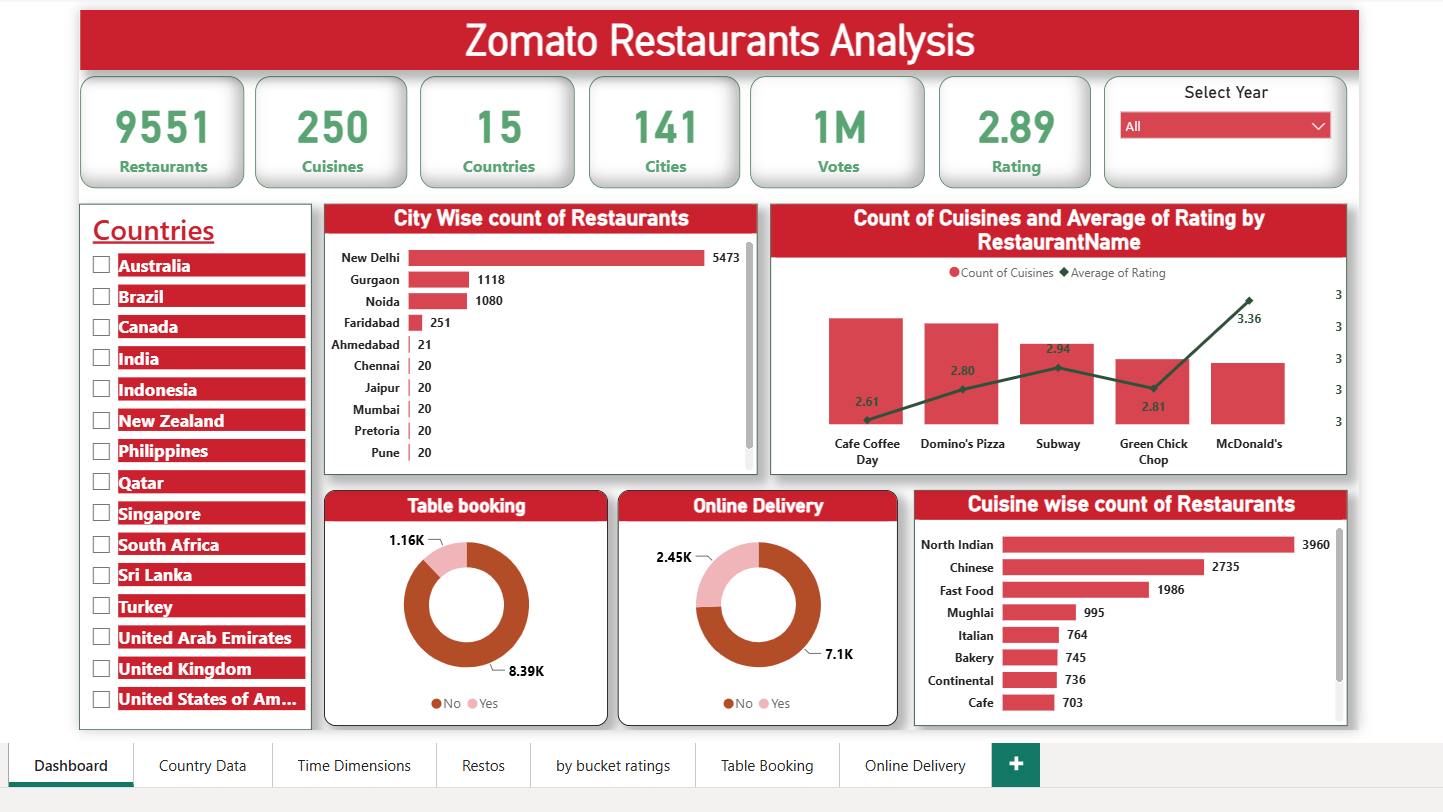

The dashboard page shown, as its layout file describes it:
{"tool":"powerbi","page":{"name":"Dashboard","canvas":[1280,720],"ordinal":0},"visuals":[{"type":"slicer","fields":{"Values":["Sheet2.country name"]},"box":[0,194.2,232.6,526.7],"z":0},{"type":"card","fields":{"Values":["CountNonNull(Sheet2.countryID)"]},"box":[340.7,66.3,154.7,111.6],"z":2000},{"type":"card","fields":{"Values":["Count(Sheet1.Cuisines)"]},"box":[176.7,66.3,152.3,111.6],"z":3000},{"type":"card","fields":{"Values":["Count(Sheet1.RestaurantID)"]},"box":[1.2,66.3,164,111.6],"z":4000},{"type":"card","fields":{"Values":["Count(Sheet1.City)"]},"box":[510.5,66.3,151.2,111.6],"z":5000},{"type":"textbox","box":[1.5,0,1279.2,60.3],"z":6000},{"type":"donutChart","title":"Table booking ","fields":{"Category":["cuisines copy.Has_Table_booking"],"Y":["CountNonNull(cuisines copy.Has_Table_booking)"]},"box":[245.3,480.2,283.7,236],"z":7000},{"type":"donutChart","title":"Online Delivery","fields":{"Category":["cuisines copy.Has_Online_delivery"],"Y":["CountNonNull(cuisines copy.Has_Online_delivery)"]},"box":[538.4,480.2,280.2,236],"z":8000},{"type":"clusteredBarChart","title":"Cuisine wise count of Restaurants","fields":{"Category":["Sheet1.Column"],"Y":["CountNonNull(Sheet1.Cuisines)"]},"box":[834.9,480.2,433.7,236],"z":9000},{"type":"clusteredBarChart","title":"City Wise count of Restaurants","fields":{"Category":["cuisines copy.City"],"Y":["CountNonNull(cuisines copy.RestaurantID)"]},"box":[245.3,194.2,433.7,270.9],"z":10000},{"type":"lineStackedColumnComboChart","fields":{"Category":["cuisines copy.RestaurantName"],"Y":["CountNonNull(cuisines copy.Cuisines)"],"Y2":["Avg(cuisines copy.Rating)"]},"box":[691.9,194.2,576.7,270.9],"z":11000},{"type":"slicer","title":"Select Year","fields":{"Values":["cuisines copy.new datekey.Variation.Date Hierarchy.Year","cuisines copy.new datekey.Variation.Date Hierarchy.Quarter","cuisines copy.new datekey.Variation.Date Hierarchy.Month","cuisines copy.new datekey.Variation.Date Hierarchy.Day"]},"box":[1025.6,66.3,243,111.6],"z":13000},{"type":"card","fields":{"Values":["Sum(cuisines copy.Votes)"]},"box":[670.9,66.3,174.4,111.6],"z":14000},{"type":"card","fields":{"Values":["Avg(cuisines copy.Rating)"]},"box":[860.5,66.3,152.3,111.6],"z":15000}]}

Visuals, with their boxes on the page's 1280x720 design canvas (x1, y1, x2, y2). These are canvas units, not pixel positions in the 1443x812 screenshot, which may show the page scaled, cropped or inside an application window:
slicer - Sheet2.country name: Rect(0, 194, 233, 721)
card - CountNonNull(Sheet2.countryID): Rect(341, 66, 495, 178)
card - Count(Sheet1.Cuisines): Rect(177, 66, 329, 178)
card - Count(Sheet1.RestaurantID): Rect(1, 66, 165, 178)
card - Count(Sheet1.City): Rect(510, 66, 662, 178)
textbox: Rect(2, 0, 1281, 60)
"Table booking " donutChart: Rect(245, 480, 529, 716)
"Online Delivery" donutChart: Rect(538, 480, 819, 716)
"Cuisine wise count of Restaurants" clusteredBarChart: Rect(835, 480, 1269, 716)
"City Wise count of Restaurants" clusteredBarChart: Rect(245, 194, 679, 465)
lineStackedColumnComboChart - cuisines copy.RestaurantName x CountNonNull(cuisines copy.Cuisines): Rect(692, 194, 1269, 465)
"Select Year" slicer: Rect(1026, 66, 1269, 178)
card - Sum(cuisines copy.Votes): Rect(671, 66, 845, 178)
card - Avg(cuisines copy.Rating): Rect(860, 66, 1013, 178)
